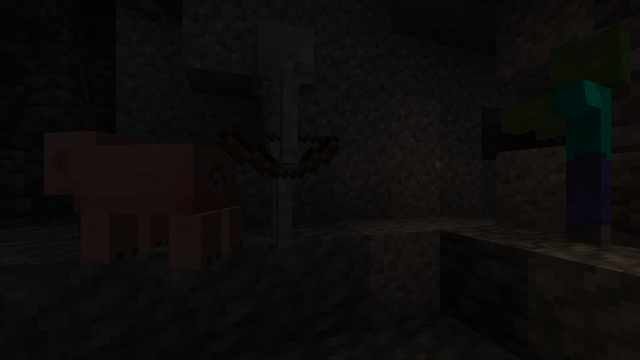cochons: (64, 135, 221, 279)
squelettes: (246, 15, 319, 254)
zombies: (540, 26, 637, 251)
